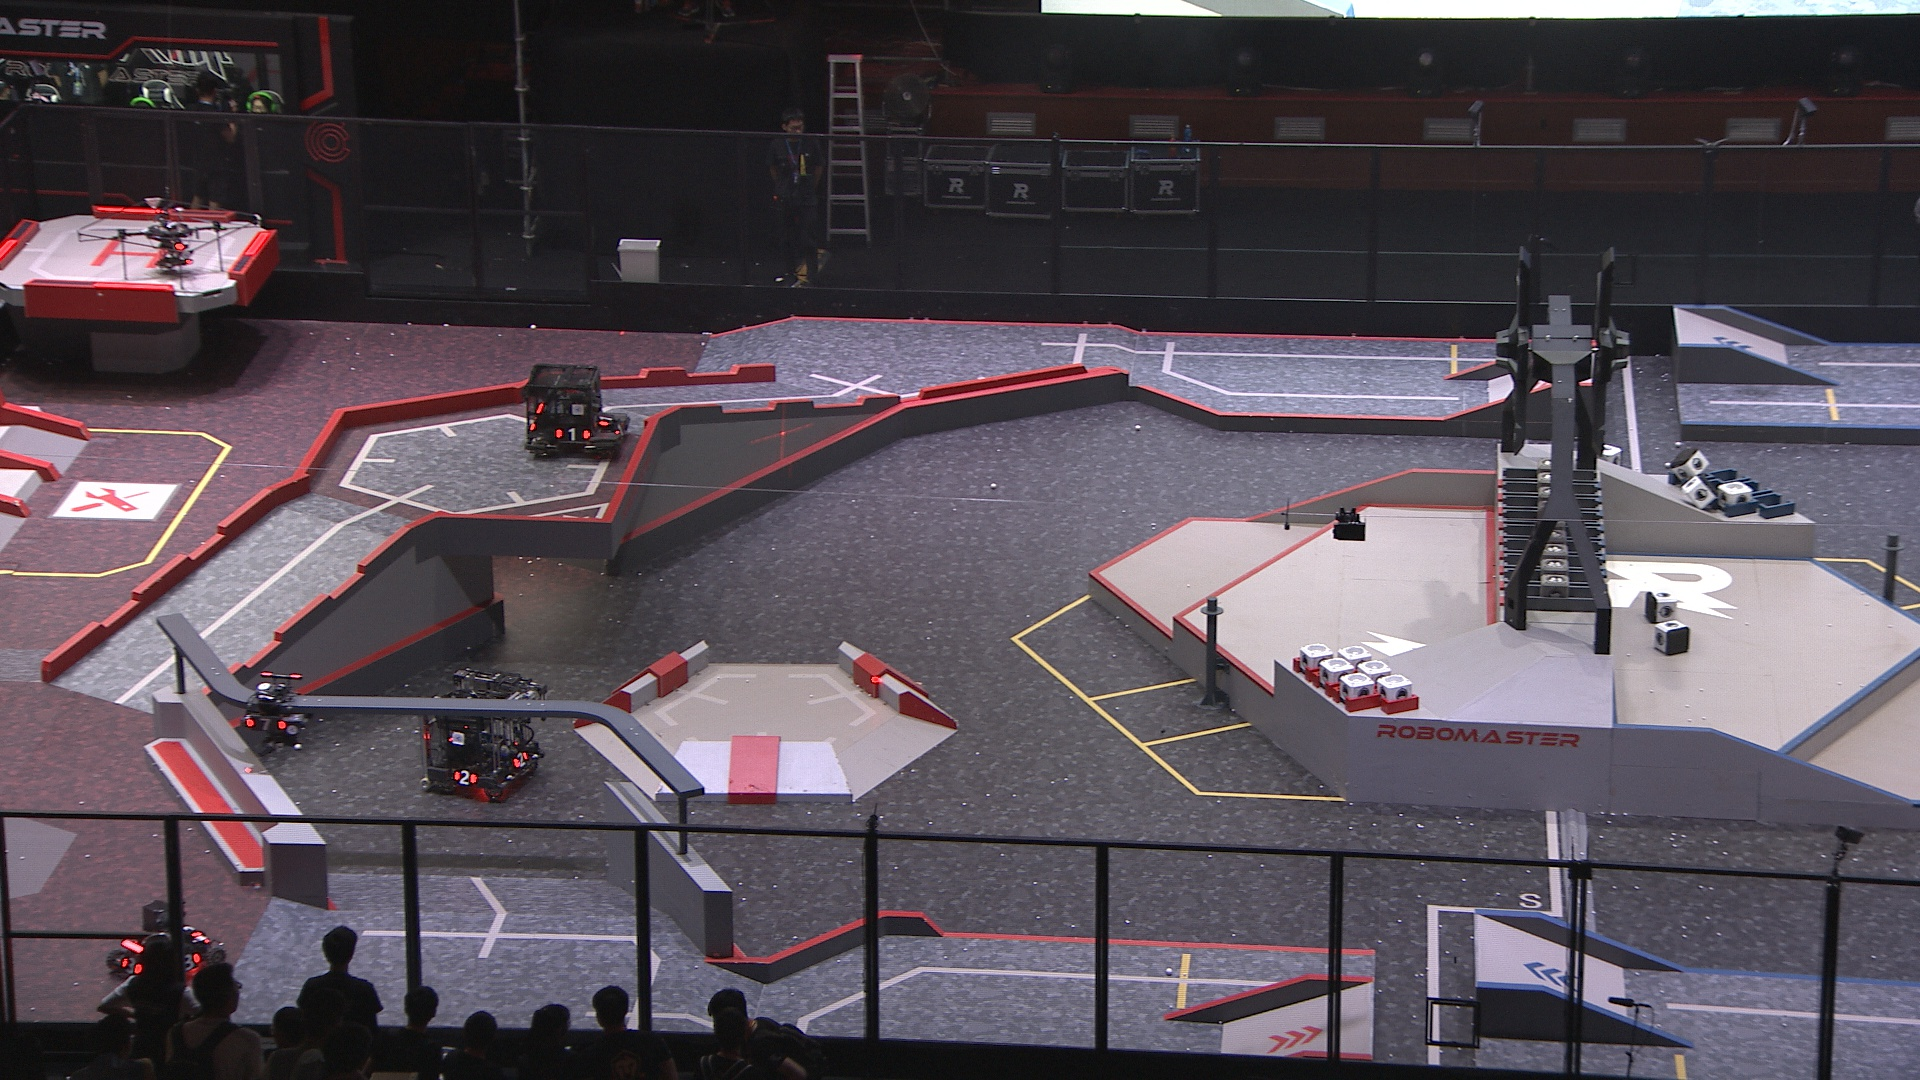armor: (243, 713, 285, 732), (551, 425, 589, 440), (452, 770, 477, 789), (121, 957, 146, 975), (595, 410, 613, 429), (179, 953, 200, 969), (181, 922, 200, 938), (512, 749, 529, 766), (615, 419, 626, 436)
car: (419, 665, 547, 799), (518, 361, 632, 462), (105, 898, 219, 992)
watcher: (237, 671, 313, 752)
